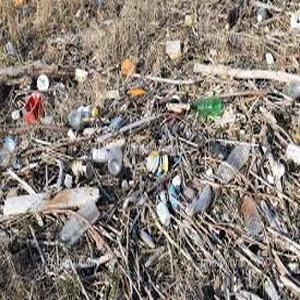Plastic: (58, 198, 99, 245), (217, 142, 252, 181), (66, 102, 102, 126)
